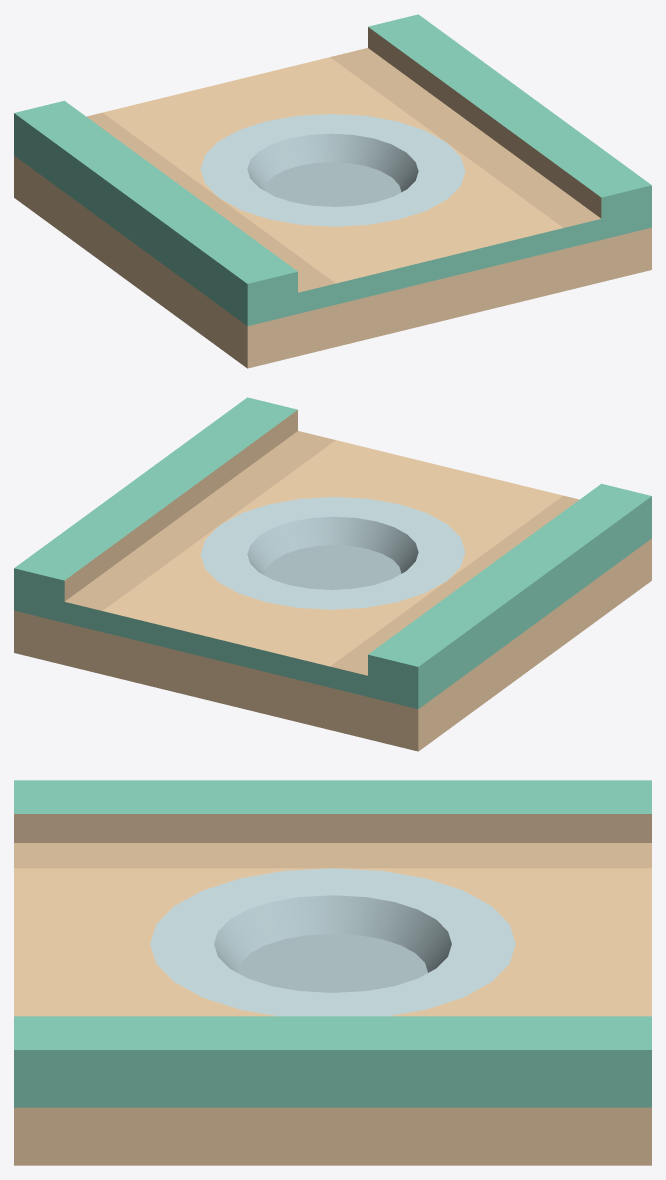
File: tile_spawnRound.glb
The picture shows the model from 3 angles, top to bottom: view 1: azimuth 30°, elevation 25°; view 2: azimuth 150°, elevation 25°; view 3: azimuth 270°, elevation 25°; orthographic projection. The views are drawn at different scales.
Visible parts, largest first — view 1: tile_spawnRound; view 2: tile_spawnRound; view 3: tile_spawnRound.
Part boxes in pixels (x1,y1,x2,y2): tile_spawnRound: (14,14,651,368); tile_spawnRound: (14,397,651,751); tile_spawnRound: (14,780,651,1165).
Bounding box in the file's own units: 1 × 0.2 × 1.
